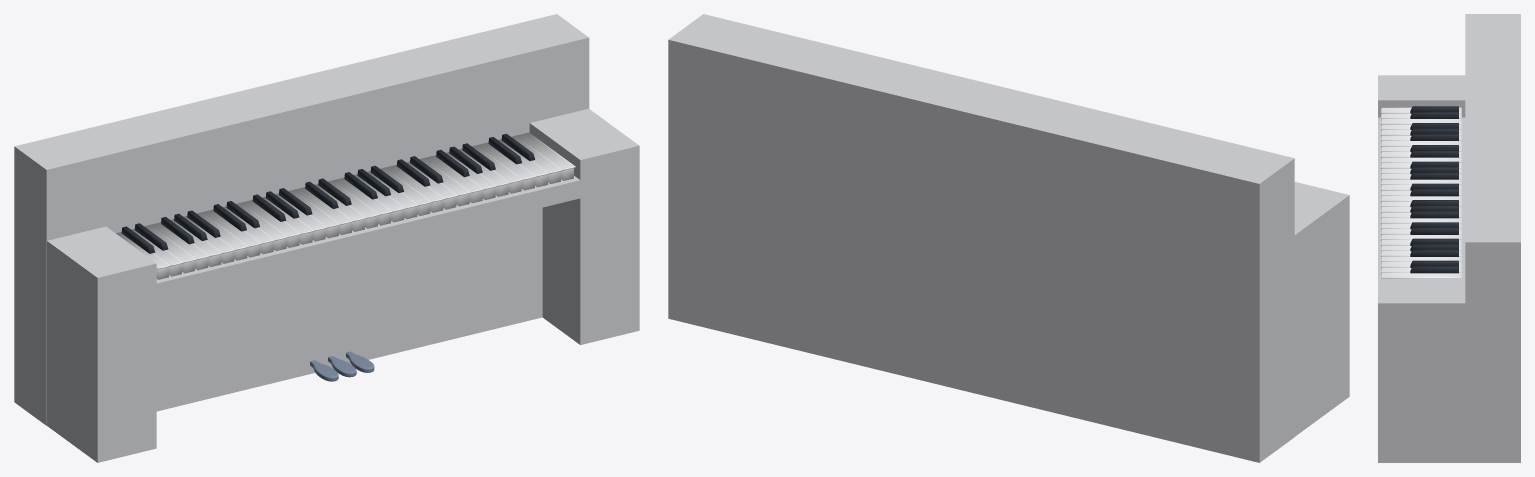
Rendered from PianoModel.glb.
3 views of the same model, side by side, from view 1: azimuth 30°, elevation 25°; view 2: azimuth 150°, elevation 25°; view 3: azimuth 270°, elevation 25° (orthographic). The views are drawn at different scales.
Visible parts, largest first — view 1: Cube.001, WhiteKeys, BlackKeys, Pedal.001; view 2: Cube.001; view 3: Cube.001, WhiteKeys, BlackKeys.
Part boxes in pixels (x1,y1,x2,y2): Cube.001: [14, 14, 639, 462]; WhiteKeys: [116, 132, 575, 279]; BlackKeys: [121, 133, 534, 253]; Pedal.001: [310, 351, 374, 381]; Cube.001: [668, 14, 1349, 462]; Cube.001: [1378, 14, 1520, 462]; WhiteKeys: [1381, 107, 1461, 278]; BlackKeys: [1410, 106, 1458, 273].
Size of the model in its own units: 21.99 by 9.92 by 5.82.
Materials: 1 (1 with a texture image).
